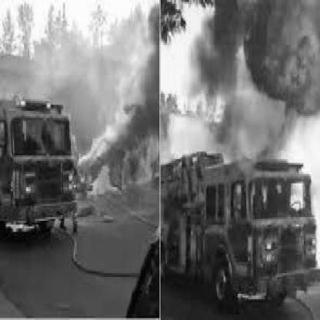Fire: (68, 109, 158, 197)
